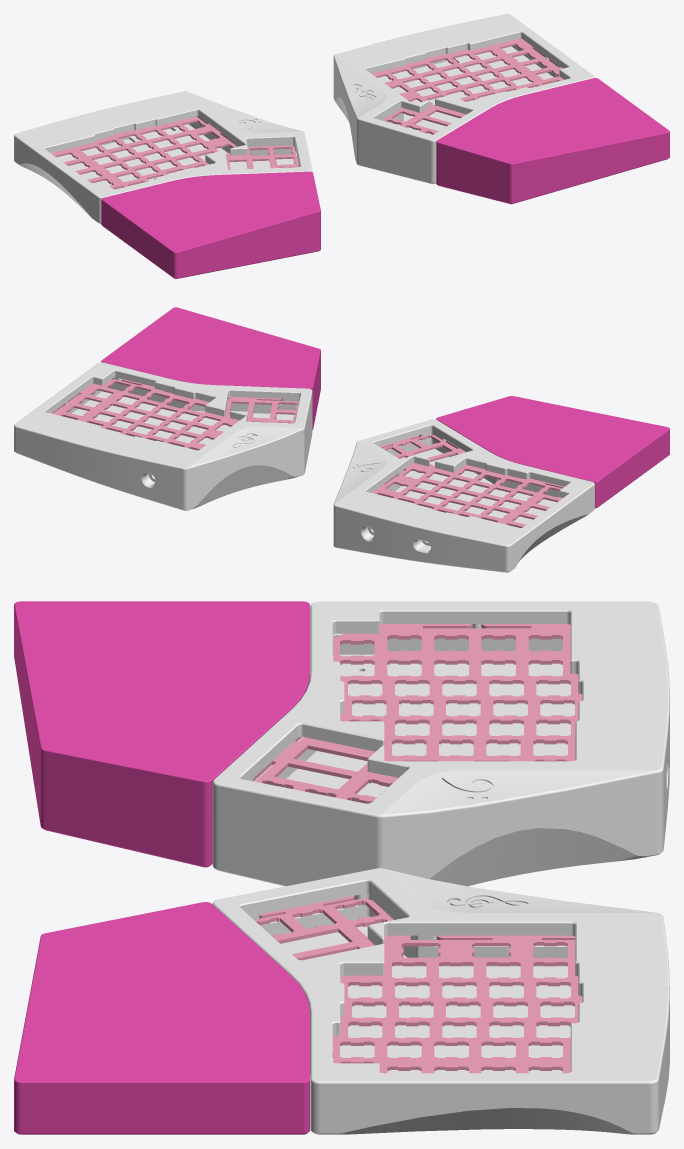
File: yuzuchorus-yue.fbx
The picture shows the model from 3 angles, top to bottom: view 1: azimuth 30°, elevation 25°; view 2: azimuth 150°, elevation 25°; view 3: azimuth 270°, elevation 25°; orthographic projection. The views are drawn at different scales.
Visible parts, largest first — view 1: RRest, LRest, RTop, LTop, RBottom, RPlate, LPlate, LBottom; view 2: RTop, LTop, LRest, RBottom, RRest, LBottom, RPlate, LPlate; view 3: LRest, RRest, LTop, RTop, LBottom, RBottom, LPlate, RPlate.
Part boxes in pixels (bbox=[...]): RRest: bbox=[436, 78, 669, 204]; LRest: bbox=[101, 171, 320, 278]; RTop: bbox=[333, 14, 594, 150]; LTop: bbox=[14, 91, 312, 207]; RBottom: bbox=[333, 45, 558, 183]; RPlate: bbox=[372, 38, 563, 134]; LPlate: bbox=[51, 116, 299, 189]; LBottom: bbox=[14, 116, 296, 223]; RTop: bbox=[14, 362, 312, 478]; LTop: bbox=[333, 419, 594, 555]; LRest: bbox=[436, 396, 669, 508]; RBottom: bbox=[14, 379, 312, 510]; RRest: bbox=[101, 307, 320, 429]; LBottom: bbox=[333, 434, 594, 572]; RPlate: bbox=[51, 379, 298, 450]; LPlate: bbox=[372, 434, 563, 527]; LRest: bbox=[14, 601, 309, 867]; RRest: bbox=[14, 902, 309, 1134]; LTop: bbox=[212, 601, 669, 835]; RTop: bbox=[212, 868, 669, 1101]; LBottom: bbox=[212, 625, 669, 886]; RBottom: bbox=[260, 898, 669, 1134]; LPlate: bbox=[253, 624, 582, 803]; RPlate: bbox=[254, 896, 582, 1073].
Bounding box in the file's own units: 460 × 41.68 × 265.
